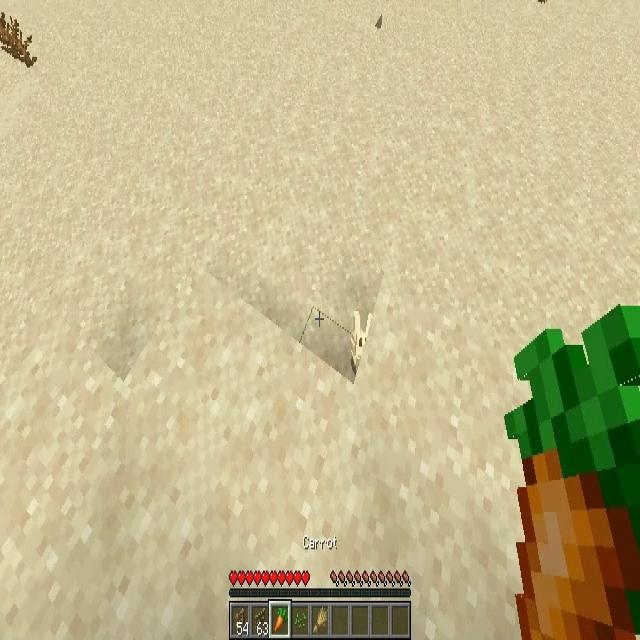rabbit: (346, 314, 374, 371)
